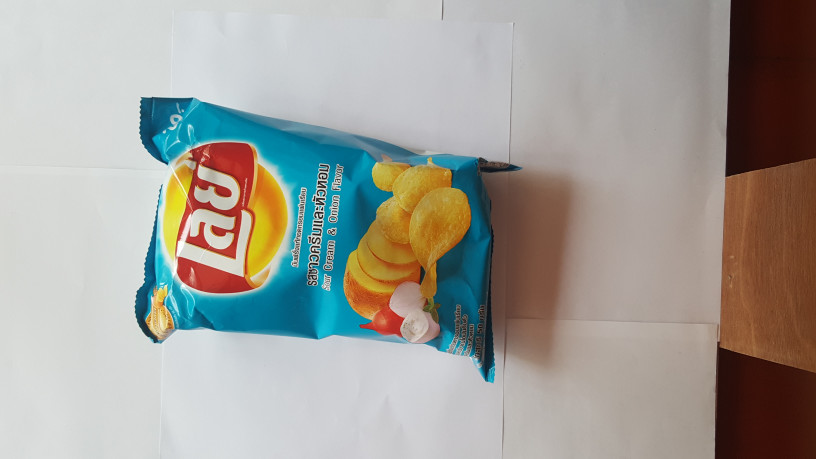lays-onion: (112, 84, 543, 390)
